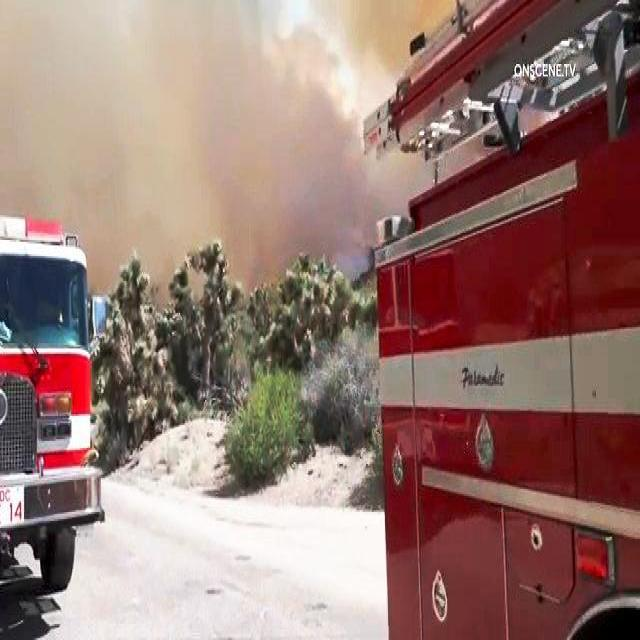Smoke: (209, 7, 347, 171)
